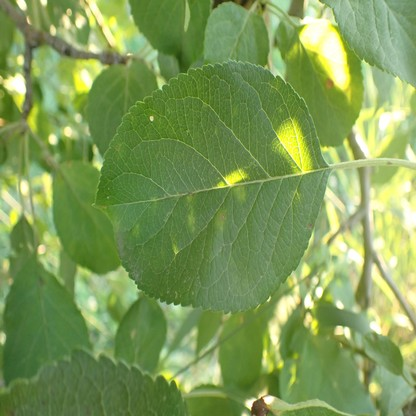frogeye_leaf_spot: (326, 78, 334, 89), (308, 222, 313, 230)
powdery_mildew: (115, 227, 125, 258), (130, 264, 140, 282)
scab: (100, 208, 118, 230), (214, 209, 228, 232), (187, 194, 195, 230), (234, 186, 246, 202), (38, 270, 48, 289), (133, 223, 139, 236)
